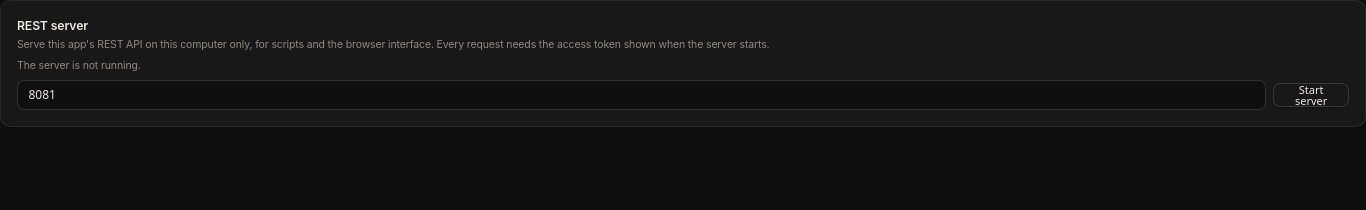
Scenario: starts the REST server for the active project, shows the token once and stops it
This screenshot has width=1366, height=210.
Later steps or results of the test are not shown.
Step 1. Click the button "Start server" → (1311, 95), box [1273,82,1349,107]
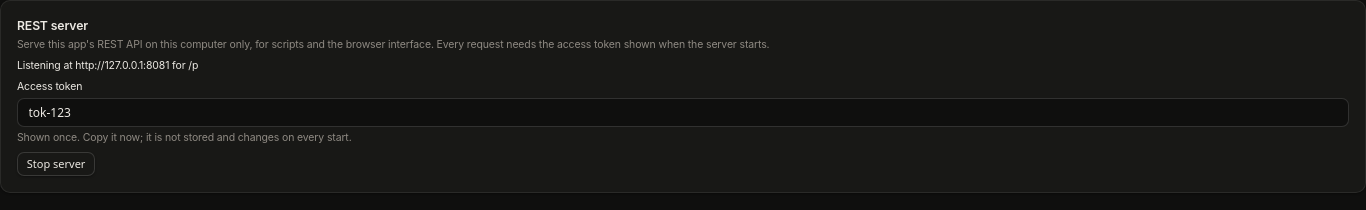
Expected: the text "http://127.0.0.1:8081" is shown, [17,59,198,72]
Expected: the field named "Access token" holds "tok-123", [17,98,1349,127]
